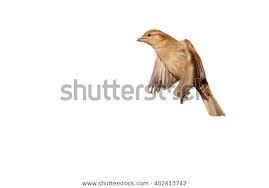hsparrow: (135, 27, 232, 123)
